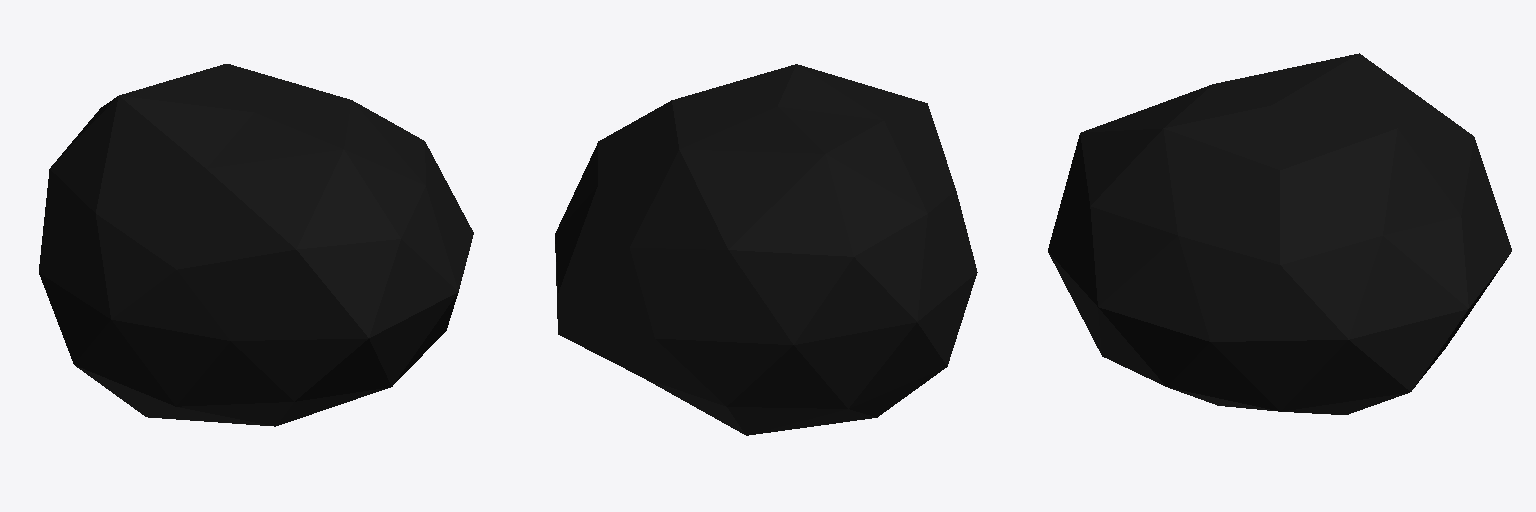
The model's file is stone.obj.
3 views of the same model, side by side, from view 1: azimuth 30°, elevation 25°; view 2: azimuth 150°, elevation 25°; view 3: azimuth 270°, elevation 25° (orthographic).
Parts seen in each view (by area): view 1: Icosphere; view 2: Icosphere; view 3: Icosphere.
Boxes of the visible parts, <box> form: Icosphere: <box>39,64,473,426</box>; Icosphere: <box>555,64,977,435</box>; Icosphere: <box>1048,53,1511,414</box>.
Bounding box in the file's own units: 3.82 × 3.08 × 4.19.